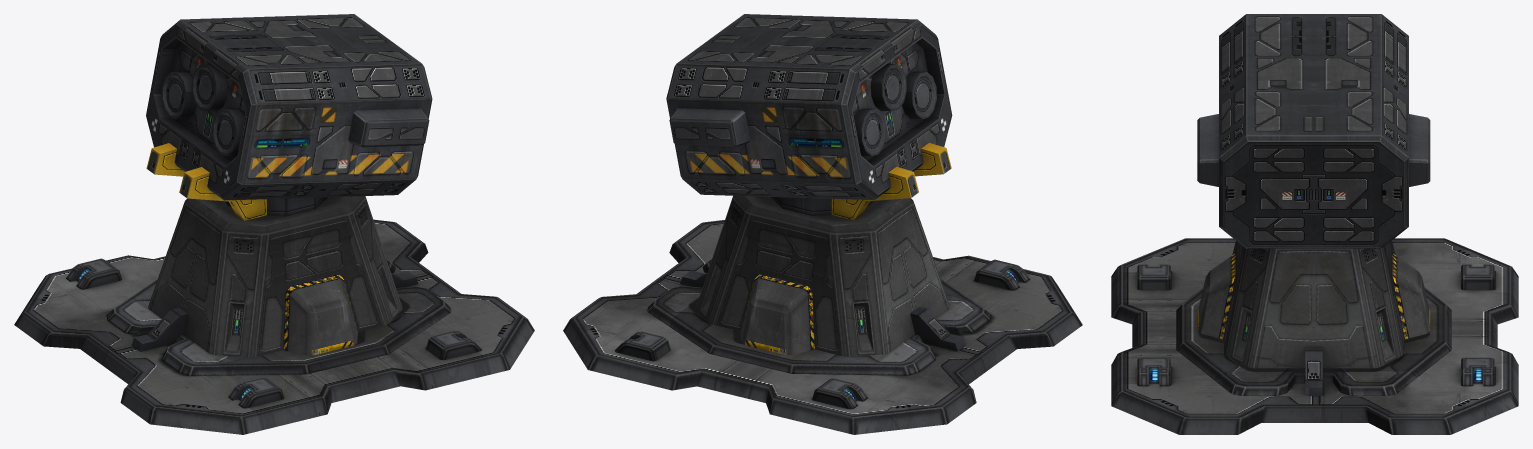
The model's file is Defense_Tower.FBX.
3 views of the same model, side by side, from view 1: azimuth 30°, elevation 25°; view 2: azimuth 150°, elevation 25°; view 3: azimuth 270°, elevation 25° (orthographic).
Parts seen in each view (by area): view 1: Tower_Rocket Launcher, Tower_Rocket Launcher-R; view 2: Tower_Rocket Launcher, Tower_Rocket Launcher-R; view 3: Tower_Rocket Launcher, Tower_Rocket Launcher-R.
Boxes of the visible parts, bbox=[...] form: Tower_Rocket Launcher: bbox=[14, 196, 534, 434]; Tower_Rocket Launcher-R: bbox=[146, 14, 432, 220]; Tower_Rocket Launcher: bbox=[563, 195, 1082, 434]; Tower_Rocket Launcher-R: bbox=[666, 14, 952, 220]; Tower_Rocket Launcher: bbox=[1111, 238, 1518, 434]; Tower_Rocket Launcher-R: bbox=[1197, 14, 1430, 248].
Size of what is drawn, in the model's own units: 1109 by 822 by 1019.
1 material, 1 textured.
